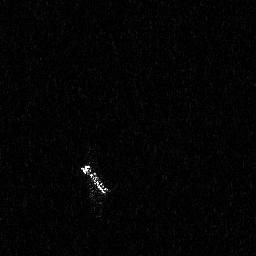ship: (78, 159, 111, 213)
